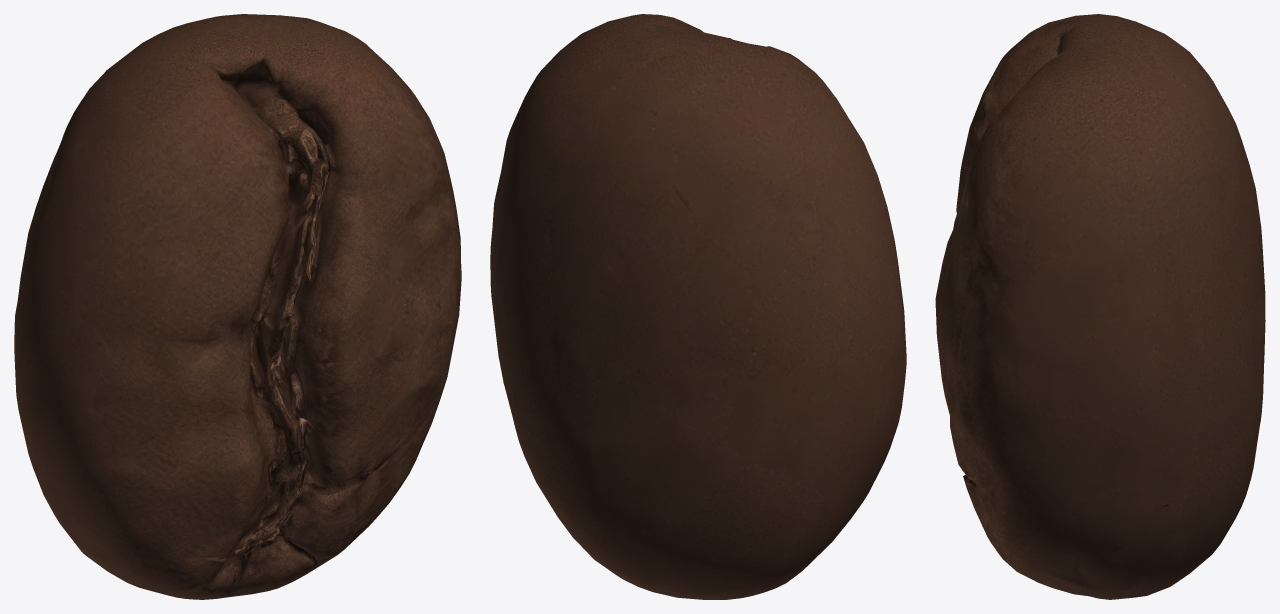
The model's file is coffee-bean.glb.
3 views of the same model, side by side, from view 1: azimuth 30°, elevation 25°; view 2: azimuth 150°, elevation 25°; view 3: azimuth 270°, elevation 25° (orthographic). The views are drawn at different scales.
Parts seen in each view (by area): view 1: mesh_node; view 2: mesh_node; view 3: mesh_node.
Part boxes in pixels (x1,y1,x2,y2): mesh_node: [14, 14, 461, 599]; mesh_node: [490, 14, 906, 599]; mesh_node: [935, 14, 1265, 599].
Bounding box in the file's own units: 1.41 × 1.9 × 1.04.
Materials: 1 (1 with a texture image).
